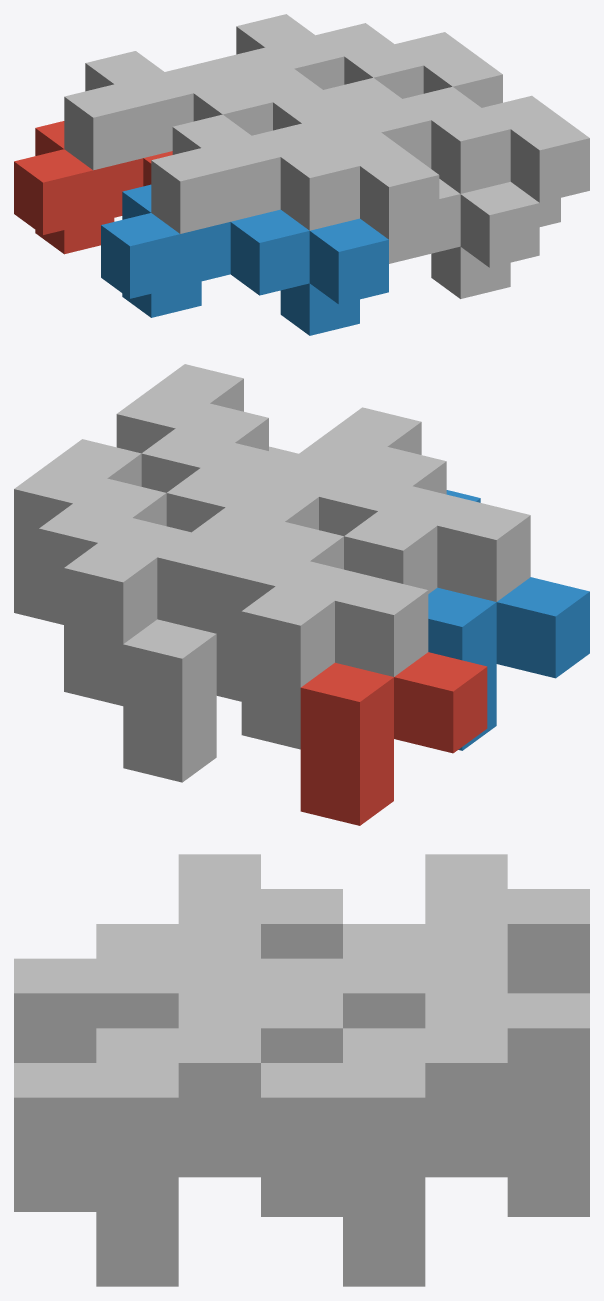
File: tiling.obj
The picture shows the model from 3 angles, top to bottom: view 1: azimuth 30°, elevation 25°; view 2: azimuth 150°, elevation 25°; view 3: azimuth 270°, elevation 25°; orthographic projection. The views are drawn at different scales.
Parts seen in each view (by area): view 1: copy_1_domain_4, copy_1_domain_2, copy_1_domain_8, copy_1_domain_3, copy_1_domain_7, copy_1_domain_6, copy_1_domain_1; view 2: copy_1_domain_7, copy_1_domain_3, copy_1_domain_4, copy_1_domain_1, copy_1_domain_8, copy_1_domain_5, copy_1_domain_2; view 3: copy_1_domain_7, copy_1_domain_8, copy_1_domain_4, copy_1_domain_3, copy_1_domain_5, copy_1_domain_6.
Part boxes in pixels (x1,y1,x2,y2): copy_1_domain_4: (151, 114, 439, 263); copy_1_domain_2: (101, 184, 388, 335); copy_1_domain_8: (302, 77, 589, 226); copy_1_domain_3: (64, 51, 351, 170); copy_1_domain_7: (215, 14, 502, 107); copy_1_domain_6: (410, 179, 539, 298); copy_1_domain_1: (14, 121, 172, 254); copy_1_domain_7: (14, 439, 250, 705); copy_1_domain_3: (192, 482, 428, 749); copy_1_domain_4: (294, 407, 530, 601); copy_1_domain_1: (300, 652, 487, 825); copy_1_domain_8: (116, 364, 352, 532); copy_1_domain_5: (123, 619, 241, 782); copy_1_domain_2: (428, 490, 589, 750); copy_1_domain_7: (261, 958, 589, 1246); copy_1_domain_8: (14, 958, 342, 1246); copy_1_domain_4: (14, 854, 342, 1062); copy_1_domain_3: (261, 854, 589, 1028); copy_1_domain_5: (261, 1137, 589, 1286); copy_1_domain_6: (14, 1137, 342, 1286).
Size of the model in its own units: 8 by 3 by 7.
